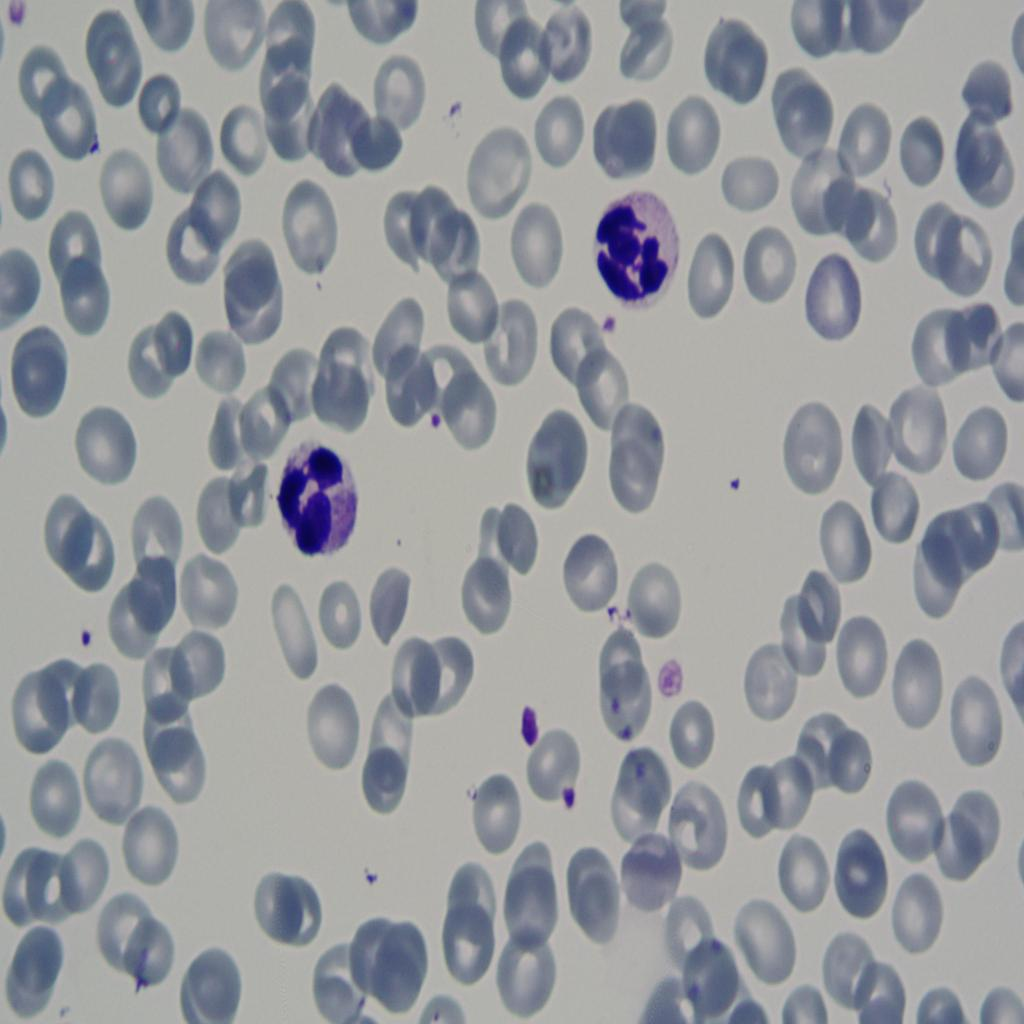Neutrofil: (262, 430, 368, 568), (587, 180, 687, 309)
Platelet: (656, 648, 690, 710), (417, 393, 445, 437), (561, 782, 586, 823), (523, 706, 544, 749), (602, 308, 624, 349), (726, 456, 745, 499), (79, 624, 106, 649)
